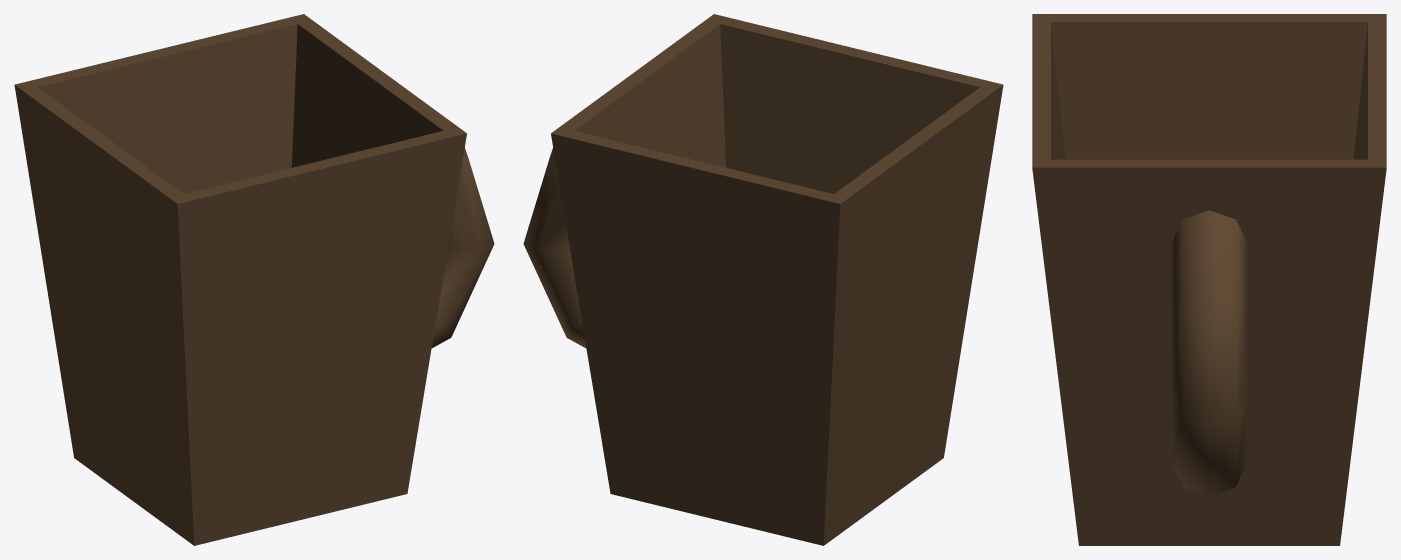
File: Itr_Obj_Cup1_03.FBX
3 renders of one model, left to right at view 1: azimuth 30°, elevation 25°; view 2: azimuth 150°, elevation 25°; view 3: azimuth 270°, elevation 25°, orthographic. The views are drawn at different scales.
Parts seen in each view (by area): view 1: Itr_Obj_Cup1_03; view 2: Itr_Obj_Cup1_03; view 3: Itr_Obj_Cup1_03.
Boxes of the visible parts, x1,y1,x2,y2 form: Itr_Obj_Cup1_03: (14, 14, 494, 545); Itr_Obj_Cup1_03: (523, 14, 1003, 545); Itr_Obj_Cup1_03: (1032, 14, 1386, 545).
Size of the model in its own units: 6.33 by 5.62 by 4.53.
